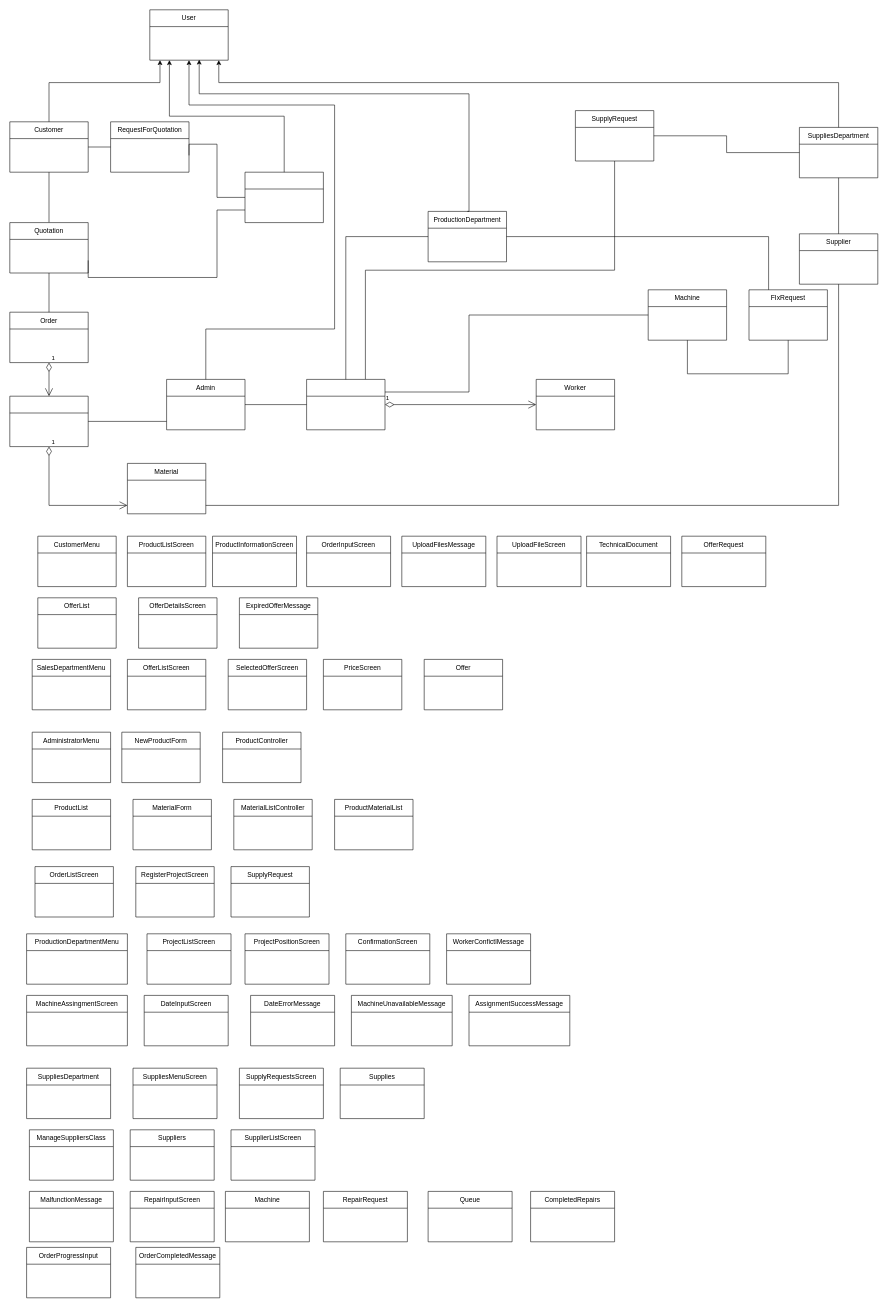
This 888x1308 diagram has some shape labels left out. Here are the shapes that lost their labels. From the top down, the box of each, then its label:
(244, 172, 323, 223): SalesDepartment
(9, 396, 88, 447): Product
(306, 379, 385, 430): Project
